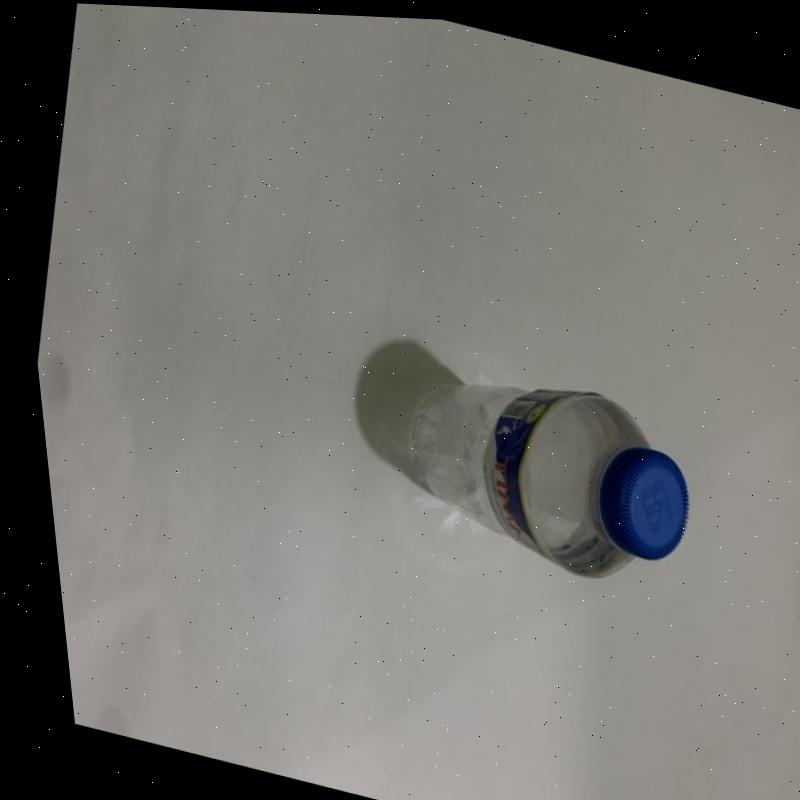botella: (365, 338, 708, 601)
